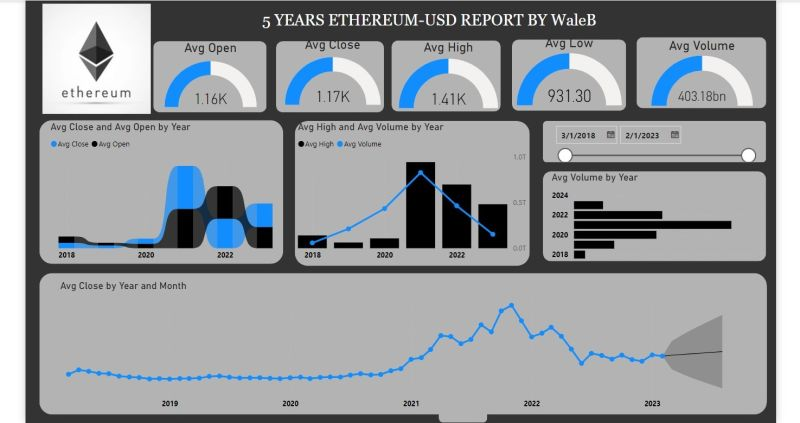

The dashboard page shown, as its layout file describes it:
{"tool":"powerbi","page":{"name":"Page 1","canvas":[1280,720],"ordinal":0},"visuals":[{"type":"shape","box":[218,69.1,193.4,121.3],"z":0},{"type":"shape","box":[426.8,69.1,184.2,121.3],"z":1000},{"type":"shape","box":[624.8,67.5,185.8,121.3],"z":2000},{"type":"shape","box":[829,66,195,121.3],"z":3000},{"type":"shape","box":[1042.4,62.9,221.1,121.3],"z":4000},{"type":"shape","box":[23,204.2,416,245.6],"z":5000},{"type":"shape","box":[23,465.2,1240.4,241],"z":6000},{"type":"shape","box":[704.6,475.9,82.9,244.1],"z":7000},{"type":"shape","box":[459,205.7,400.7,247.2],"z":8000},{"type":"shape","box":[882.7,291.7,380.7,153.5],"z":9000},{"type":"gauge","fields":{"Y":["ETH-USD.Avg Open"]},"box":[231.8,67.5,167.3,124.3],"z":10000},{"type":"gauge","fields":{"Y":["ETH-USD.Avg Close"]},"box":[437.5,62.9,173.5,124.3],"z":11000},{"type":"gauge","fields":{"Y":["ETH-USD.Avg High"]},"box":[631,66,179.6,124.3],"z":12000},{"type":"gauge","fields":{"Y":["ETH-USD.Avg Low"]},"box":[822.9,59.9,208.8,124.3],"z":13000},{"type":"gauge","fields":{"Y":["ETH-USD.Avg Volume"]},"box":[1039.3,64.5,228.7,121.3],"z":14000},{"type":"ribbonChart","fields":{"Y":["ETH-USD.Avg Close","ETH-USD.Avg Open"],"Category":["ETH-USD.Date.Variation.Date Hierarchy.Year"]},"box":[36.8,205.7,402.2,247.2],"z":15000},{"type":"lineStackedColumnComboChart","fields":{"Category":["ETH-USD.Date.Variation.Date Hierarchy.Year"],"Y":["ETH-USD.Avg High"],"Y2":["ETH-USD.Avg Volume"]},"box":[458.3,205,401.7,248.3],"z":16000},{"type":"barChart","fields":{"Category":["ETH-USD.Date.Variation.Date Hierarchy.Year"],"Y":["ETH-USD.Avg Volume"]},"box":[891.9,291.7,371.5,162.7],"z":17000},{"type":"lineChart","fields":{"Y":["ETH-USD.Avg Close"],"Category":["ETH-USD.Date.Variation.Date Hierarchy.Year","ETH-USD.Date.Variation.Date Hierarchy.Month"]},"box":[53.7,475.9,1152.9,230.3],"z":18000},{"type":"image","box":[23,0,195,198],"z":19000},{"type":"shape","box":[882.7,205.7,380.7,70.6],"z":20000},{"type":"slicer","fields":{"Values":["ETH-USD.Date"]},"box":[891.9,204.2,345.4,87.5],"z":21000},{"type":"textbox","box":[238,12.3,899.6,50.7],"z":22000}]}

Visuals, with their boxes in screenshot pixels (x1, y1, x2, y2):
shape: l=139, t=29, r=255, b=102
shape: l=265, t=29, r=375, b=102
shape: l=384, t=28, r=495, b=101
shape: l=506, t=27, r=623, b=100
shape: l=634, t=25, r=767, b=98
shape: l=22, t=110, r=272, b=258
shape: l=22, t=267, r=767, b=412
shape: l=431, t=273, r=481, b=420
shape: l=284, t=111, r=525, b=259
shape: l=538, t=163, r=767, b=255
gauge - ETH-USD.Avg Open: l=148, t=28, r=248, b=103
gauge - ETH-USD.Avg Close: l=271, t=25, r=375, b=100
gauge - ETH-USD.Avg High: l=387, t=27, r=495, b=102
gauge - ETH-USD.Avg Low: l=503, t=23, r=628, b=98
gauge - ETH-USD.Avg Volume: l=632, t=26, r=770, b=99
ribbonChart - ETH-USD.Avg Close x ETH-USD.Avg Open: l=30, t=111, r=272, b=259
lineStackedColumnComboChart - ETH-USD.Date.Variation.Date Hierarchy.Year x ETH-USD.Avg High: l=284, t=111, r=525, b=260
barChart - ETH-USD.Date.Variation.Date Hierarchy.Year x ETH-USD.Avg Volume: l=544, t=163, r=767, b=260
lineChart - ETH-USD.Avg Close x ETH-USD.Date.Variation.Date Hierarchy.Year: l=41, t=273, r=733, b=412
image: l=22, t=0, r=139, b=106
shape: l=538, t=111, r=767, b=153
slicer - ETH-USD.Date: l=544, t=110, r=751, b=163
textbox: l=151, t=0, r=692, b=25
